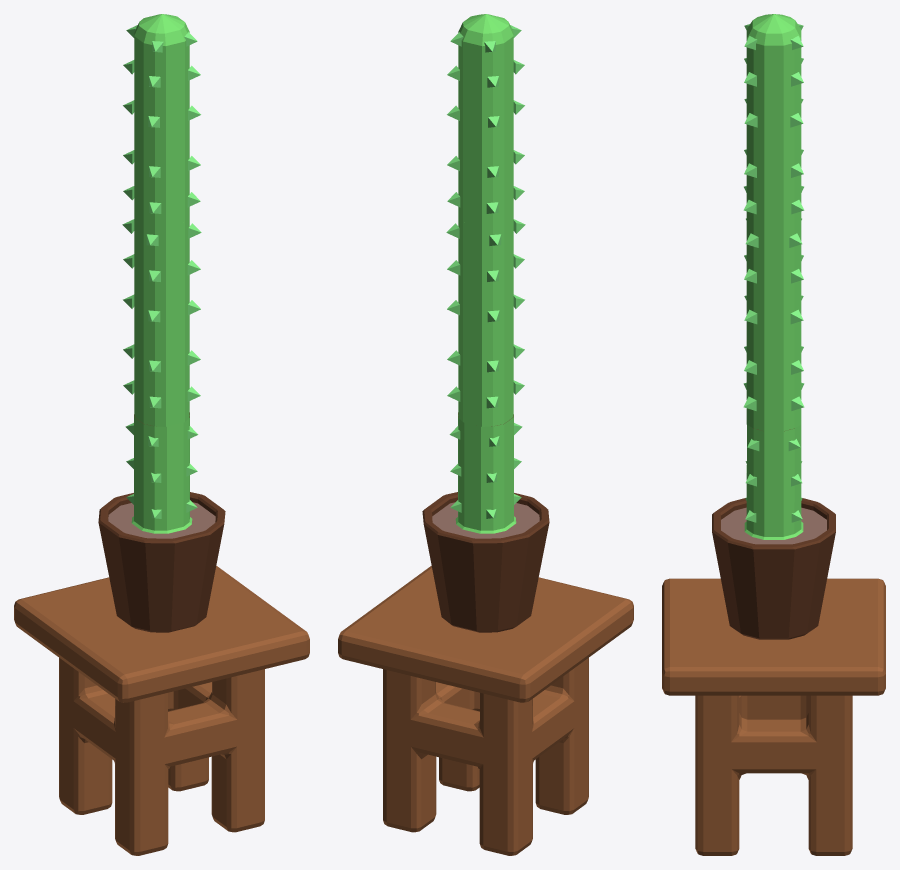
File: StoolScalable.fbx
The picture shows the model from 3 angles, left to right: view 1: azimuth 30°, elevation 25°; view 2: azimuth 150°, elevation 25°; view 3: azimuth 270°, elevation 25°; orthographic projection.
Parts seen in each view (by area): view 1: StoolCactus.001, Cube.016, Cube.021, Cube.017; view 2: StoolCactus.001, Cube.016, Cube.021, Cube.017; view 3: StoolCactus.001, Cube.016, Cube.021, Cube.017.
Part boxes in pixels (left/top/right/bottom): StoolCactus.001: left=14, top=566, right=309, bottom=855; Cube.016: left=98, top=412, right=225, bottom=632; Cube.021: left=123, top=14, right=200, bottom=226; Cube.017: left=122, top=216, right=201, bottom=426; StoolCactus.001: left=338, top=566, right=633, bottom=855; Cube.016: left=422, top=412, right=549, bottom=632; Cube.021: left=447, top=14, right=524, bottom=226; Cube.017: left=446, top=216, right=525, bottom=426; StoolCactus.001: left=662, top=578, right=885, bottom=855; Cube.016: left=712, top=425, right=835, bottom=639; Cube.021: left=743, top=14, right=804, bottom=228; Cube.017: left=743, top=218, right=804, bottom=431.
Bounding box in the file's own units: 100 × 100 × 400.
